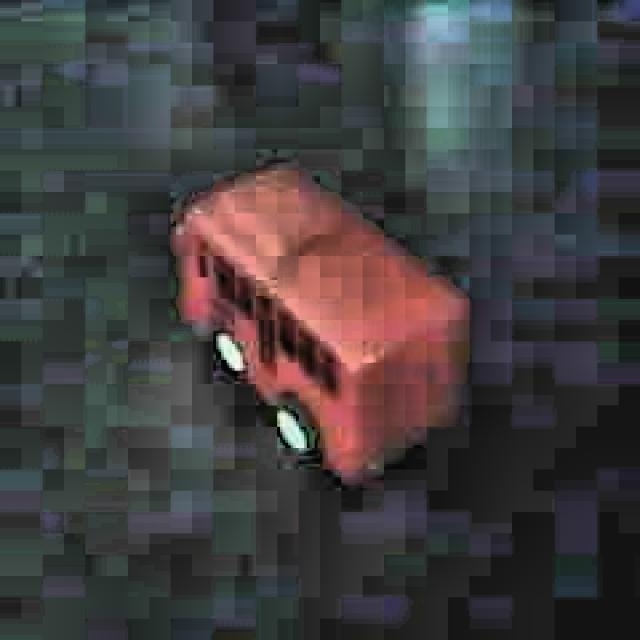bus: (169, 159, 472, 493)
